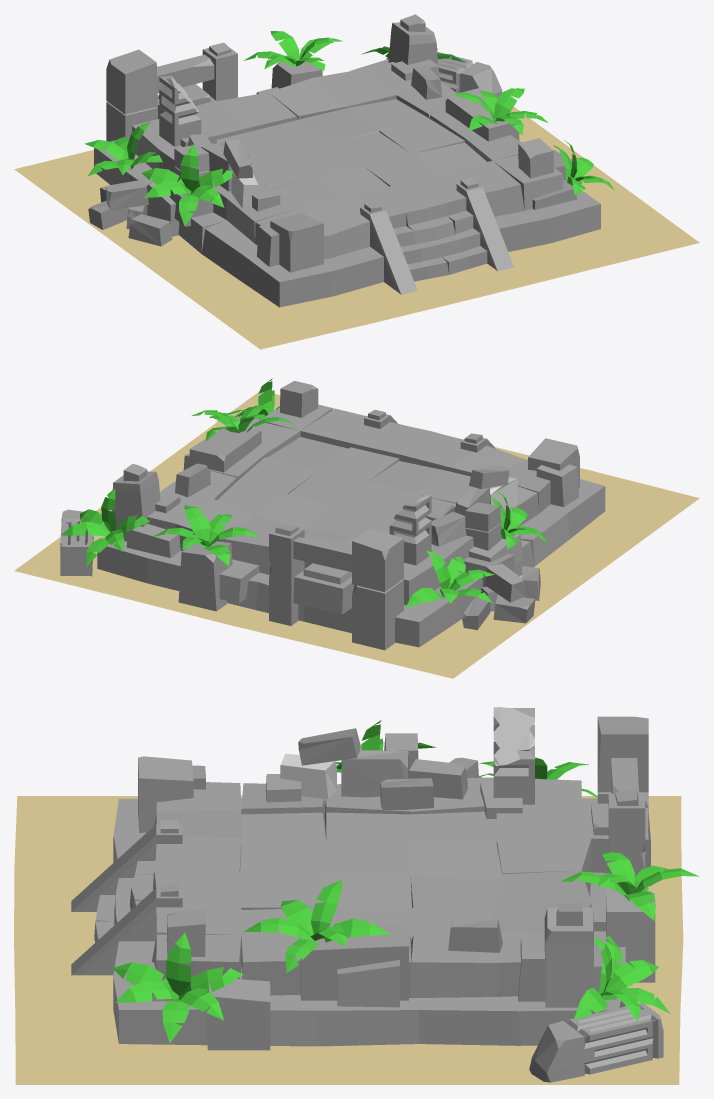
The model's file is temple_ruins-deyama.glb.
The picture shows the model from 3 angles, top to bottom: view 1: azimuth 30°, elevation 25°; view 2: azimuth 150°, elevation 25°; view 3: azimuth 270°, elevation 25°; orthographic projection. The views are drawn at different scales.
Visible parts, largest first — view 1: Temple, Seashore, Bricks, FernB.002, FernA.001, FernB, FernA, FernB.003; view 2: Temple, Seashore, Bricks, FernB.001, FernA, FernB, FernA.001, FernB.002, FernB.003; view 3: Temple, Seashore, Bricks, FernB.003, FernA.001, FernB.001, FernA, FernB, FernB.002.
Part boxes in pixels (x1,y1,x2,y2): Temple: (94,14,600,307); Seashore: (14,107,699,349); Bricks: (88,65,442,246); FernB.002: (142,144,232,226); FernA.001: (452,88,548,135); FernB: (84,121,162,176); FernA: (243,31,343,70); FernB.003: (553,140,614,195); Temple: (60,381,605,650); Seashore: (14,392,699,678); Bricks: (175,463,540,630); FernB.001: (61,489,149,566); FernA: (153,505,259,566); FernB: (405,550,494,607); FernA.001: (190,405,293,441); FernB.002: (490,491,547,549); FernB.003: (217,378,279,421); Temple: (71,707,663,1082); Seashore: (14,796,683,1084); Bricks: (280,728,502,952); FernB.003: (112,932,243,1043); FernA.001: (244,880,389,973); FernB.001: (574,935,670,1021); FernA: (561,851,699,920); FernB: (473,757,597,797); FernB.002: (335,720,436,772).
Bounding box in the file's own units: 5.47 × 1.34 × 5.49.
